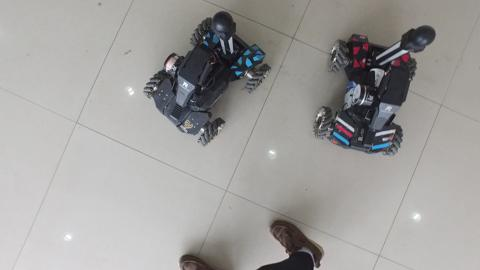chariot: (306, 22, 444, 165), (141, 9, 273, 151)
